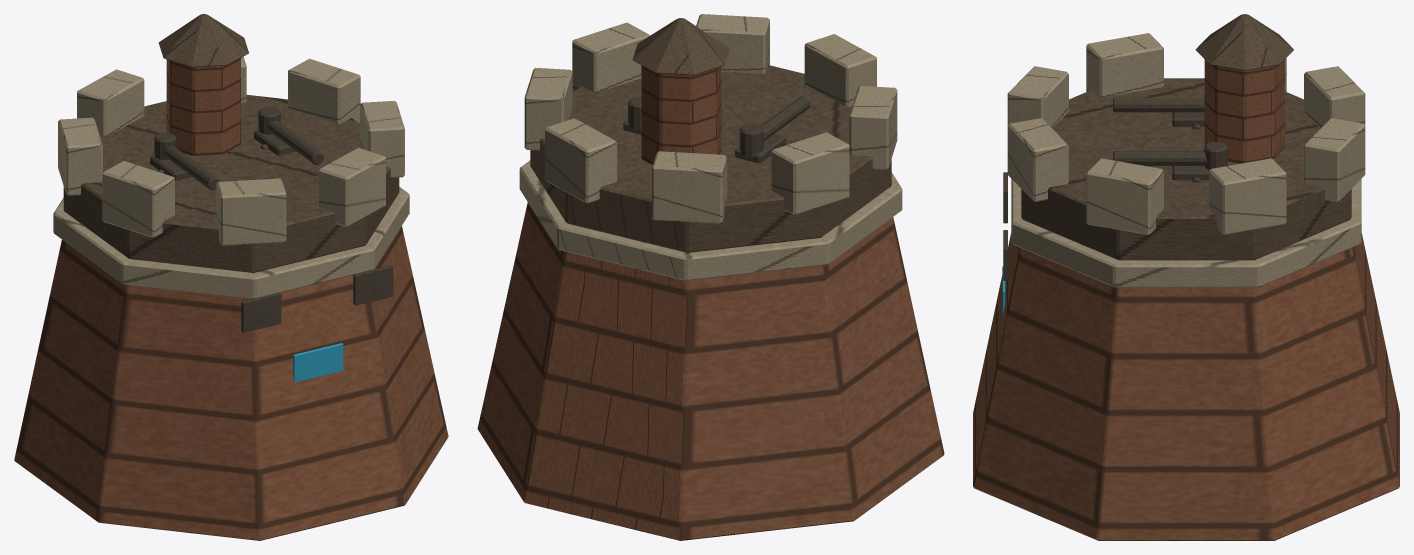
Rendered from edificio-tower-e3-B_4czn1x.glb.
3 views of the same model, side by side, from view 1: azimuth 30°, elevation 25°; view 2: azimuth 150°, elevation 25°; view 3: azimuth 270°, elevation 25° (orthographic). The views are drawn at different scales.
Visible parts, largest first — view 1: envolvente_torre, mecanismo_ataque_torre_e3, team_color; view 2: envolvente_torre, mecanismo_ataque_torre_e3; view 3: envolvente_torre, mecanismo_ataque_torre_e3.
Part boxes in pixels (x1,y1,x2,y2): envolvente_torre: [14, 14, 448, 540]; mecanismo_ataque_torre_e3: [150, 107, 323, 190]; team_color: [293, 343, 343, 382]; envolvente_torre: [477, 14, 944, 540]; mecanismo_ataque_torre_e3: [623, 96, 810, 163]; envolvente_torre: [973, 14, 1399, 540]; mecanismo_ataque_torre_e3: [1113, 94, 1227, 182].
Bounding box in the file's own units: 43.92 × 49.5 × 43.92.
Materials: 2 (1 with a texture image).
